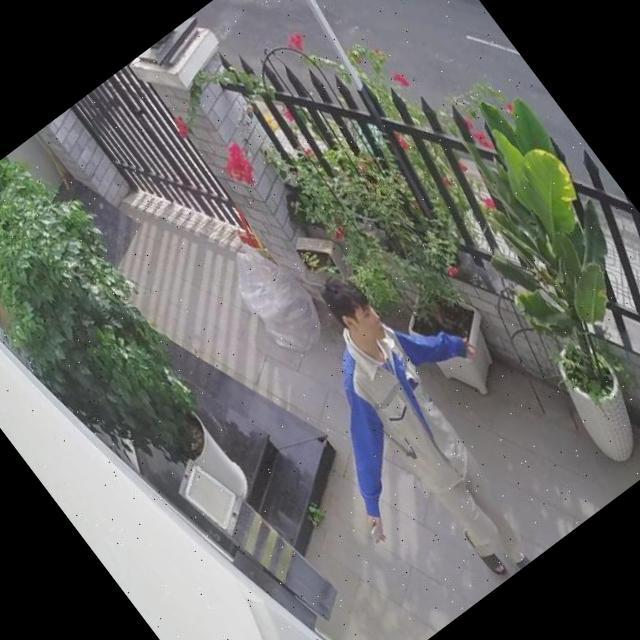person: (230, 232, 598, 630)
